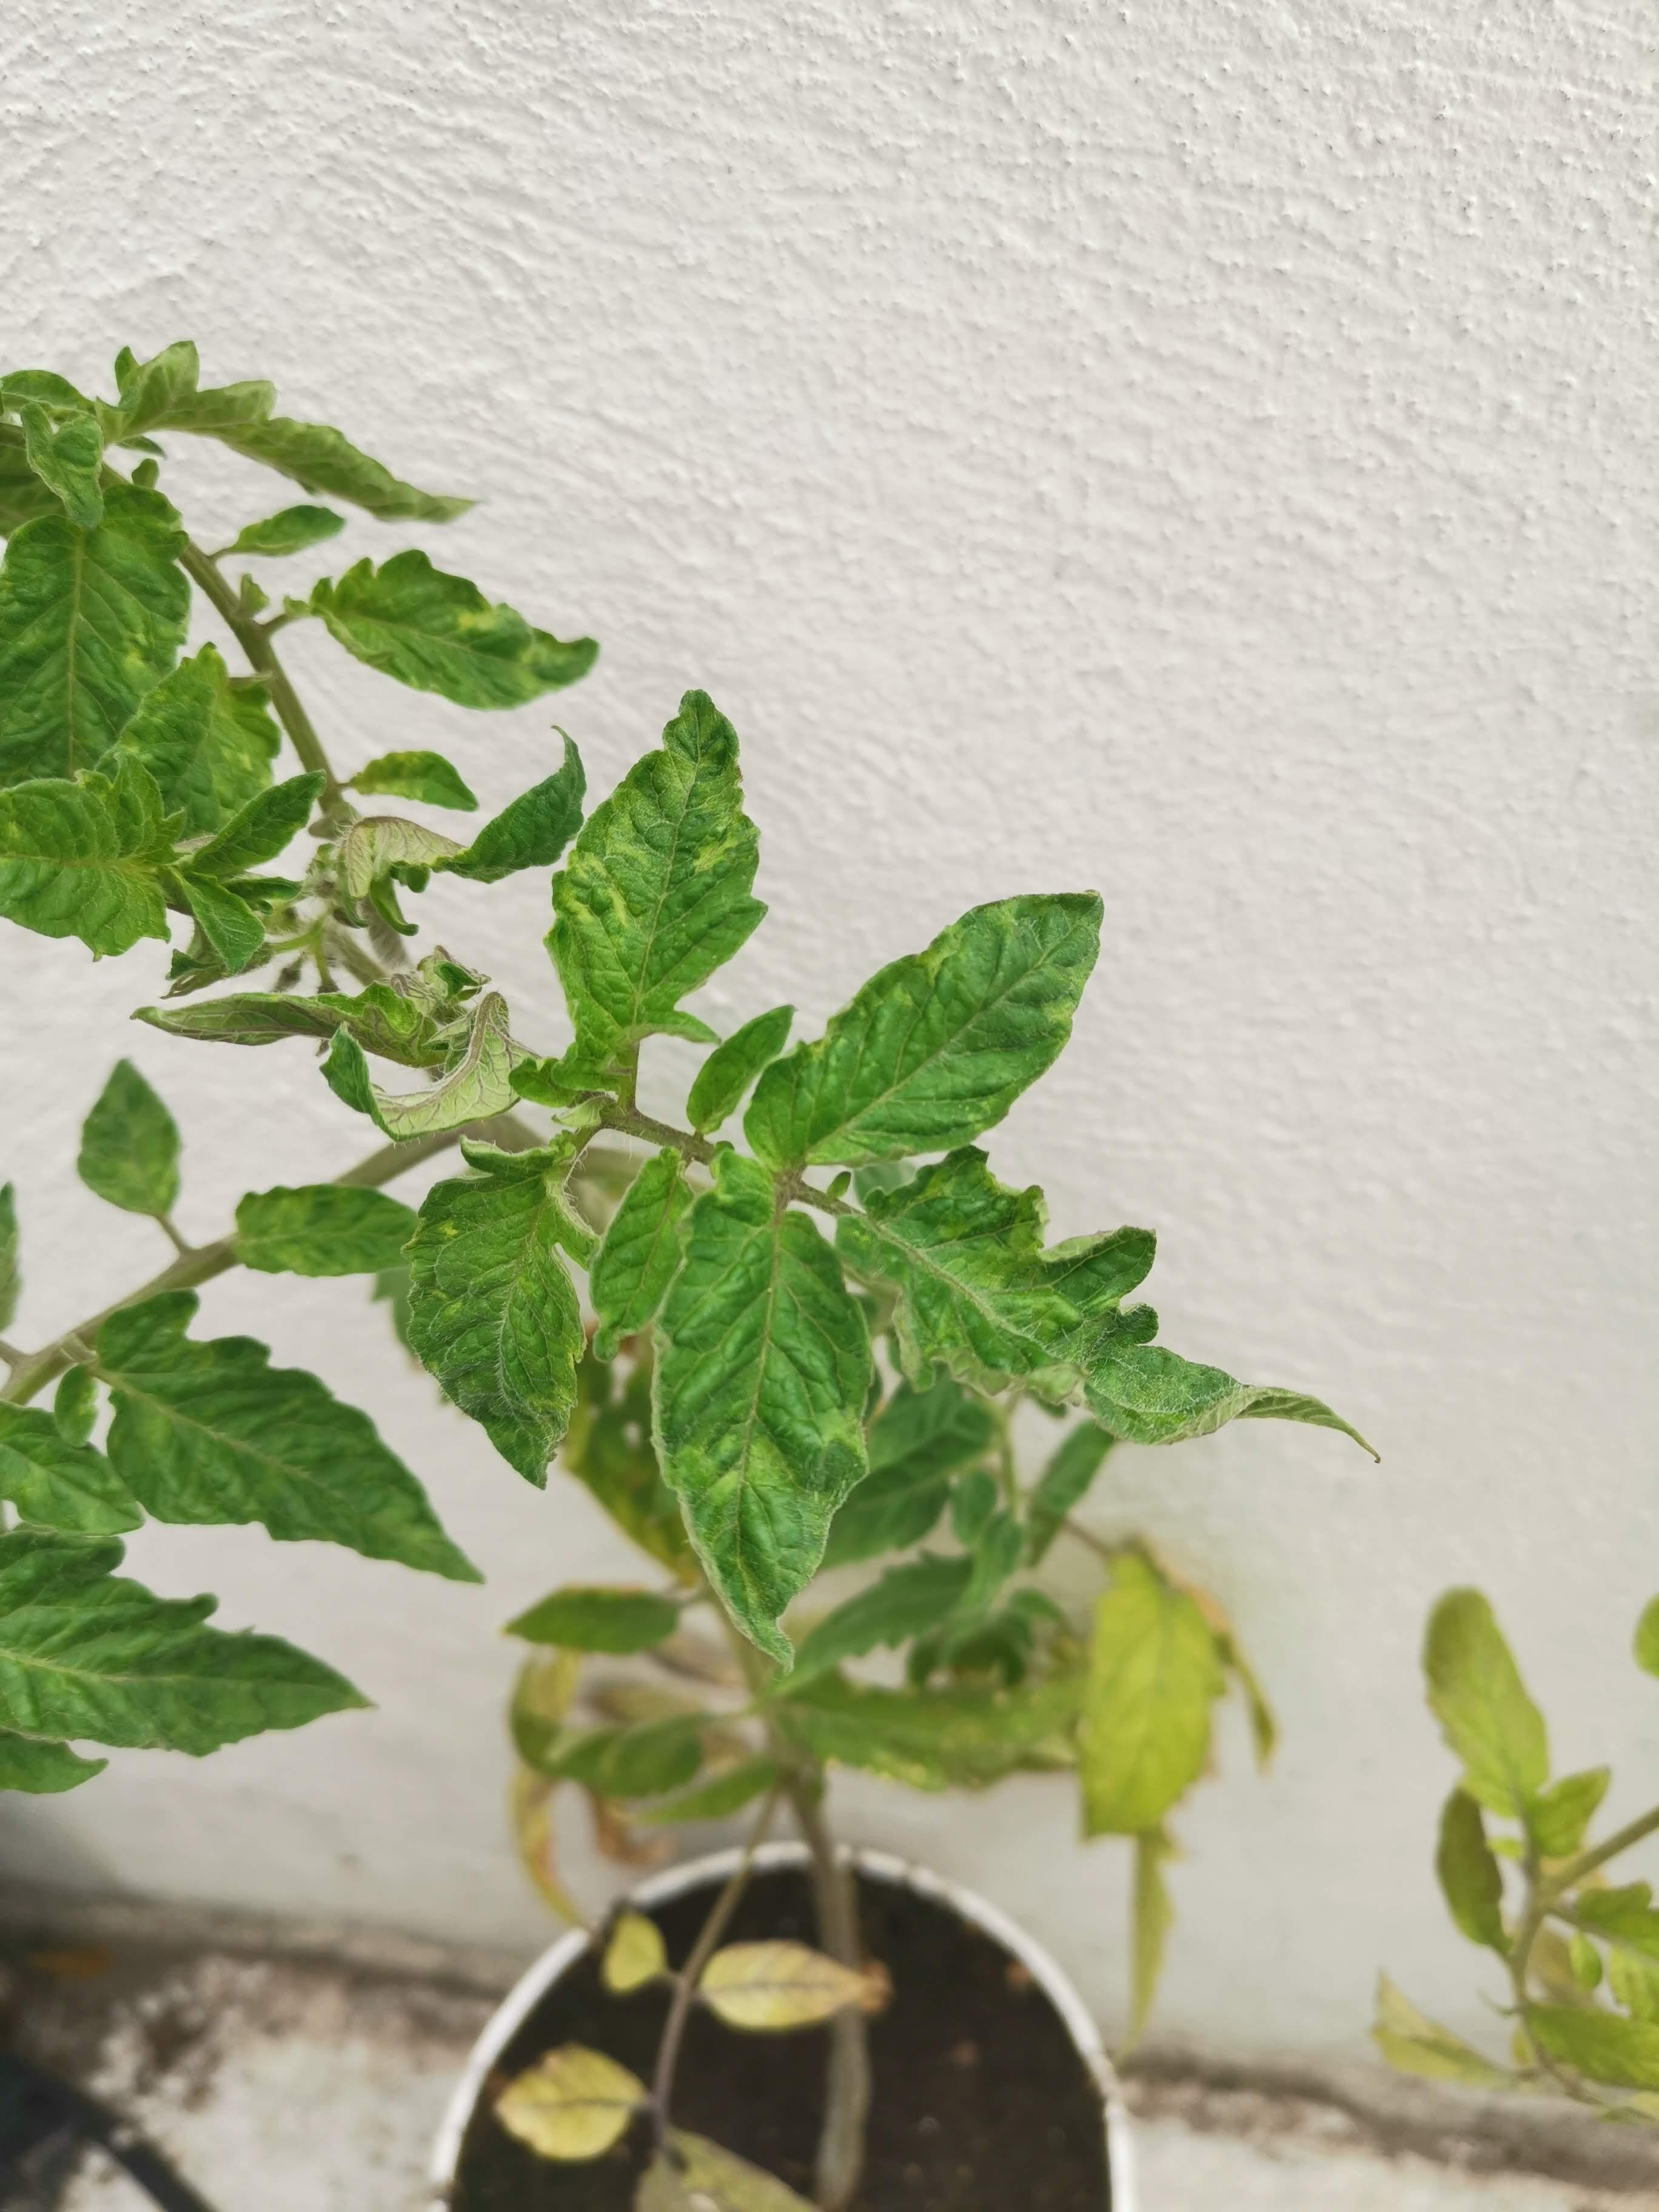Rugose leaf: (835, 1146, 1384, 1465), (650, 1141, 877, 1677), (739, 890, 1101, 1170), (544, 688, 772, 1094), (397, 1130, 598, 1489), (0, 486, 190, 787), (307, 549, 596, 709), (134, 948, 486, 1069), (0, 756, 181, 954), (425, 726, 587, 881)
Rugose stem: (584, 1094, 709, 1162)
